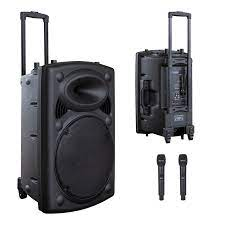microphone: (146, 148, 197, 205)
speaker: (3, 58, 127, 214)
